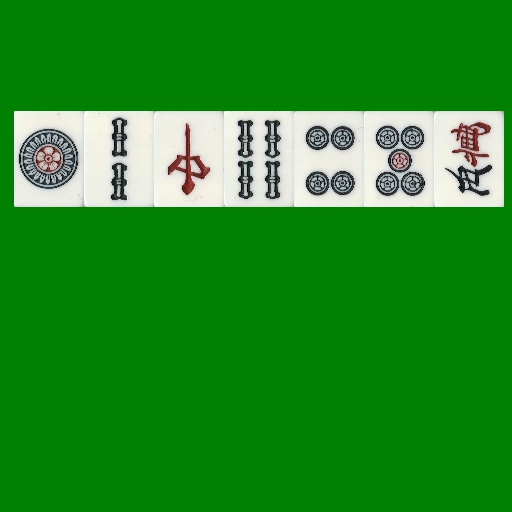1p: (14, 111, 84, 207)
2s: (84, 111, 154, 207)
4p: (294, 111, 364, 207)
4s: (224, 111, 294, 207)
5m: (434, 111, 504, 207)
5p: (364, 111, 434, 207)
tyun: (154, 111, 224, 207)
